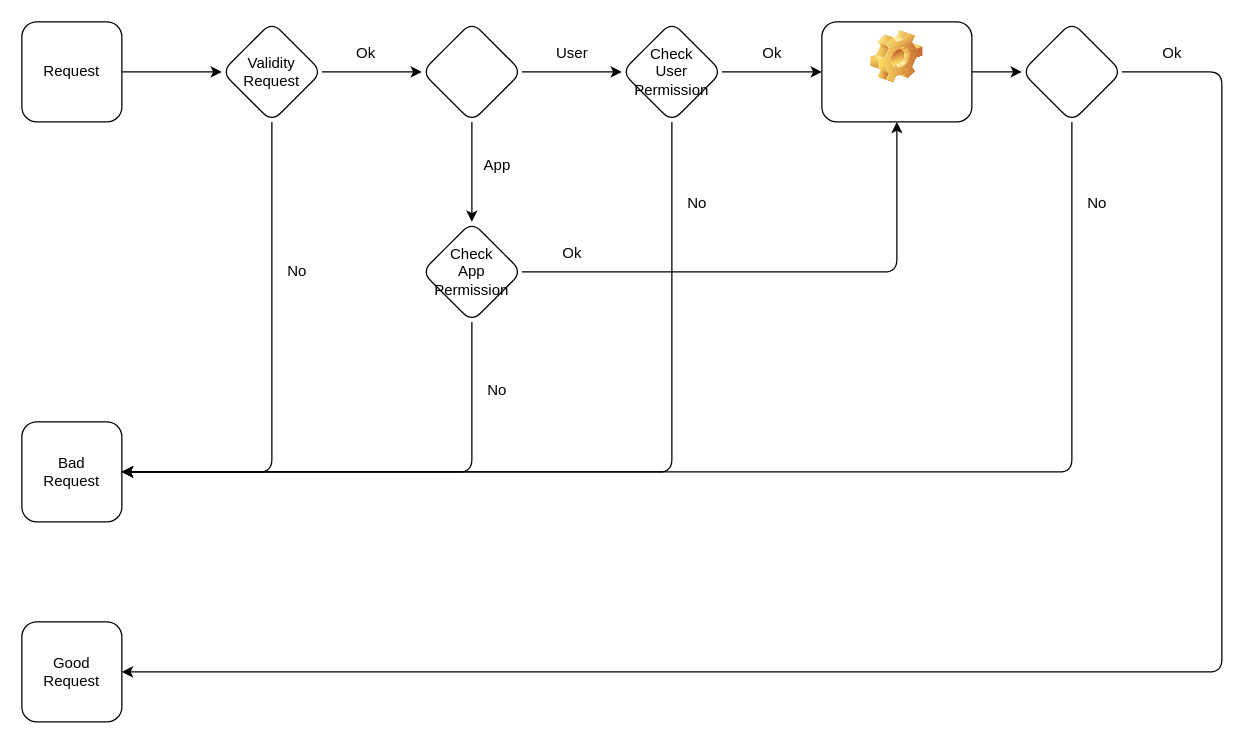
Some shapes in this 1254 by 744 pixel diagram are drawn without their labels. The centre of each missing label's shape, as x and y in pixels:
"API" goes at (x=896, y=71).
"Check Origin" goes at (x=471, y=71).
"Success" goes at (x=1071, y=71).
